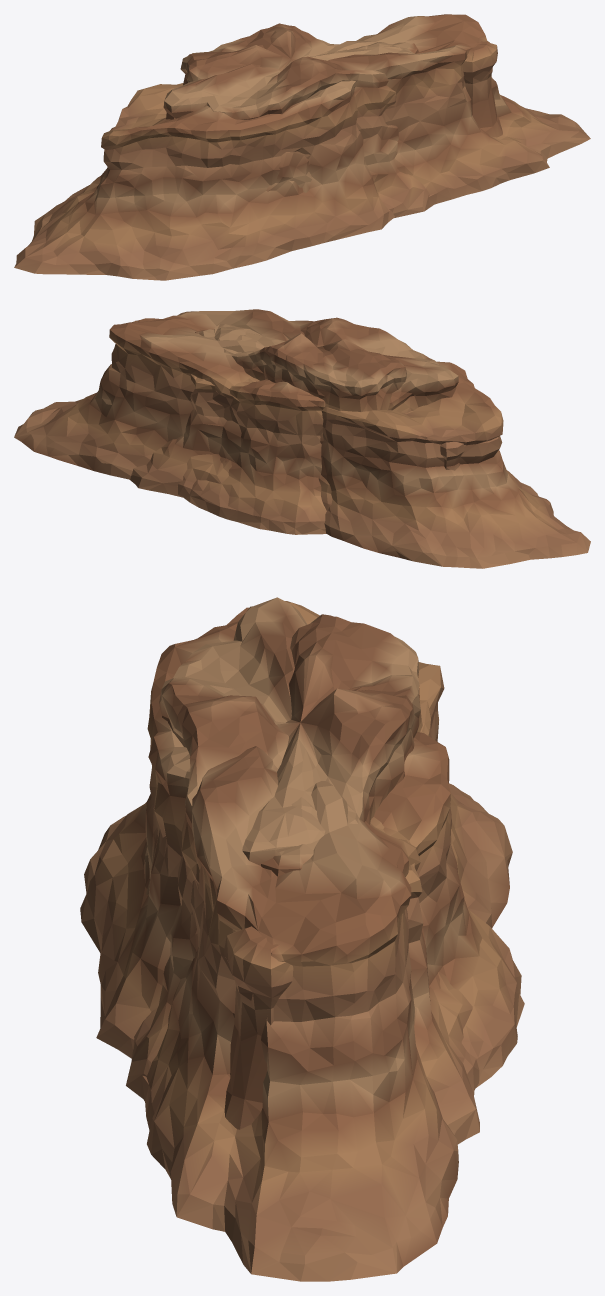
Rendered from mexico.glb.
3 renders of one model, top to bottom at view 1: azimuth 30°, elevation 25°; view 2: azimuth 150°, elevation 25°; view 3: azimuth 270°, elevation 25°, orthographic. The views are drawn at different scales.
Visible parts, largest first — view 1: mesa-b, mesa-a, mesa-c; view 2: mesa-b, mesa-a, mesa-c; view 3: mesa-b, mesa-a, mesa-c.
Boxes of the visible parts, x1=… form: mesa-b: x1=14, y1=14, x2=590, y2=280; mesa-a: x1=163, y1=41, x2=502, y2=217; mesa-c: x1=110, y1=23, x2=413, y2=130; mesa-b: x1=14, y1=309, x2=590, y2=568; mesa-a: x1=130, y1=317, x2=458, y2=534; mesa-c: x1=214, y1=324, x2=464, y2=510; mesa-b: x1=80, y1=601, x2=512, y2=1281; mesa-a: x1=126, y1=597, x2=524, y2=1144; mesa-c: x1=242, y1=614, x2=422, y2=865.
Size of the model in its own units: 147 by 40.53 by 50.53.
